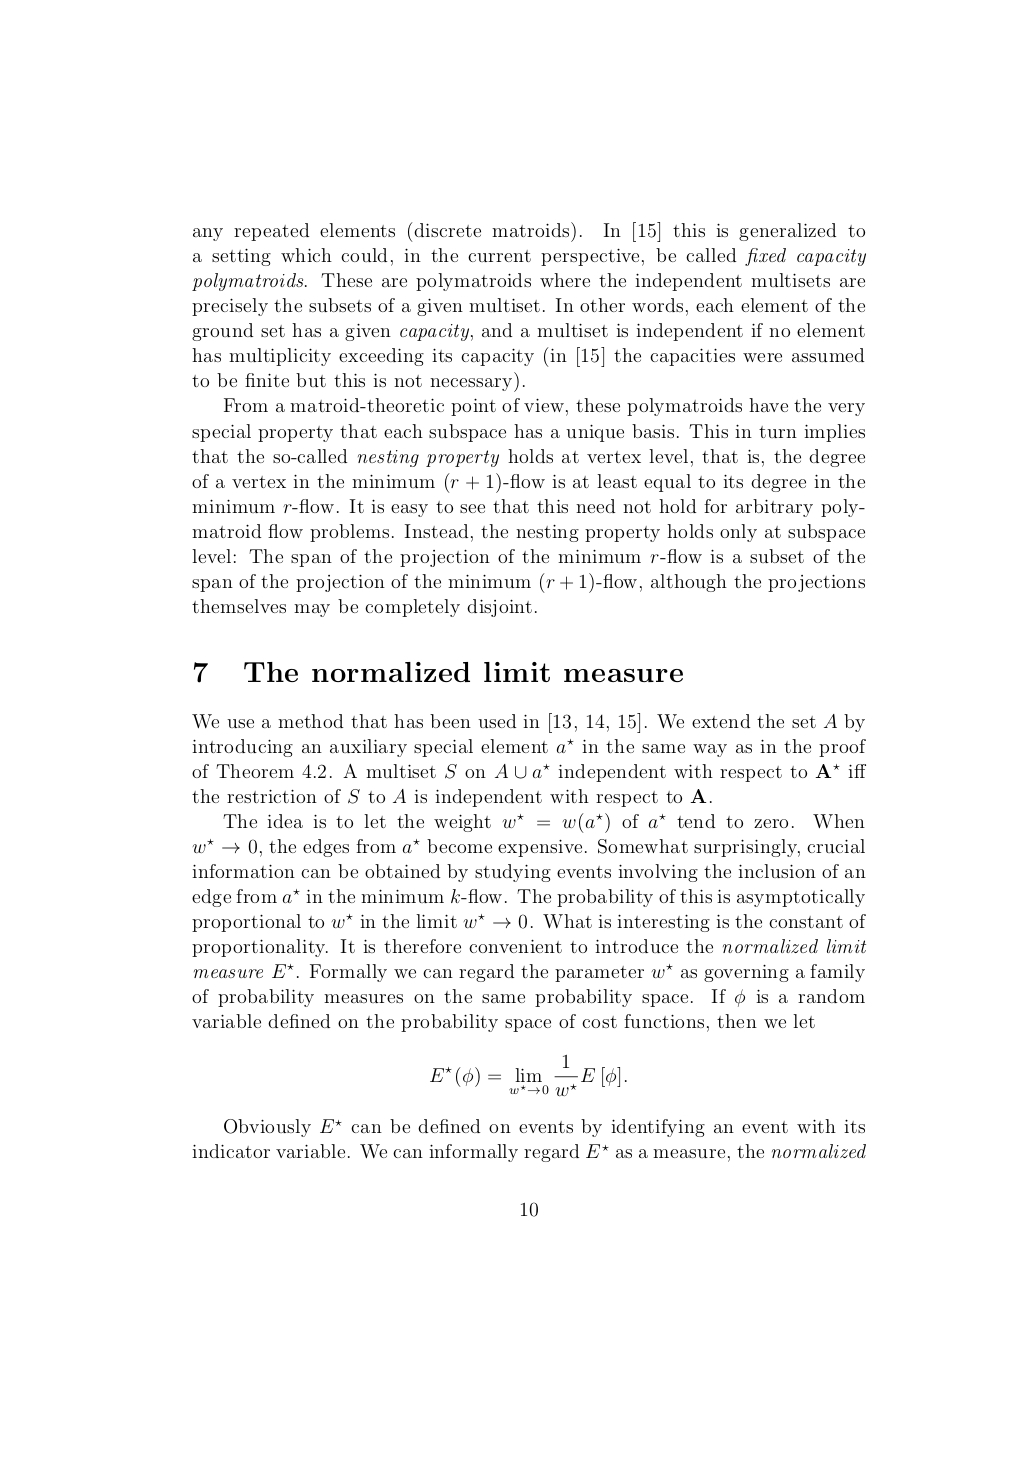formula: (430, 1053, 625, 1097)
